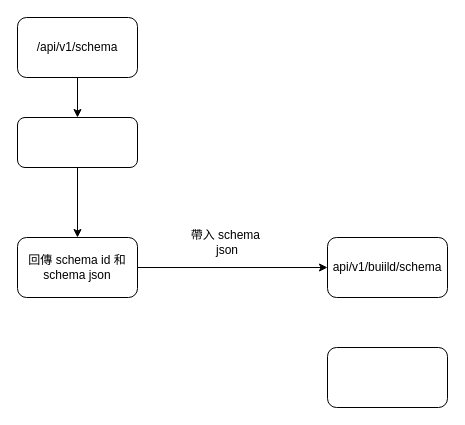
This 465x425 diagram has some shape labels left out. Each missing label, with the centre of its shape:
回傳是否成功: (x=387, y=377)
與 agent建立 schema: (x=77, y=142)
